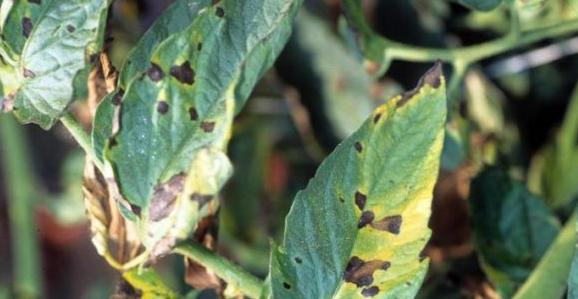Tomato Early blight leaf: (105, 0, 310, 253), (259, 81, 468, 299)
